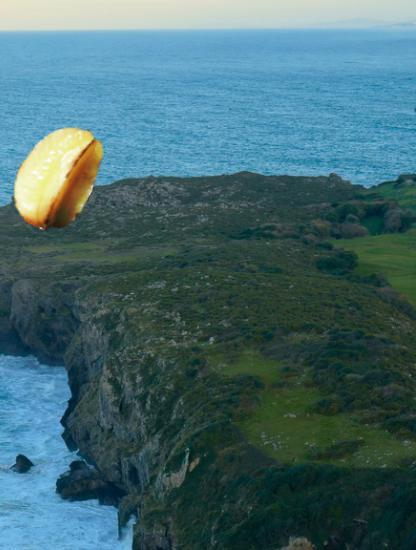Carambula: (3, 121, 113, 231)
